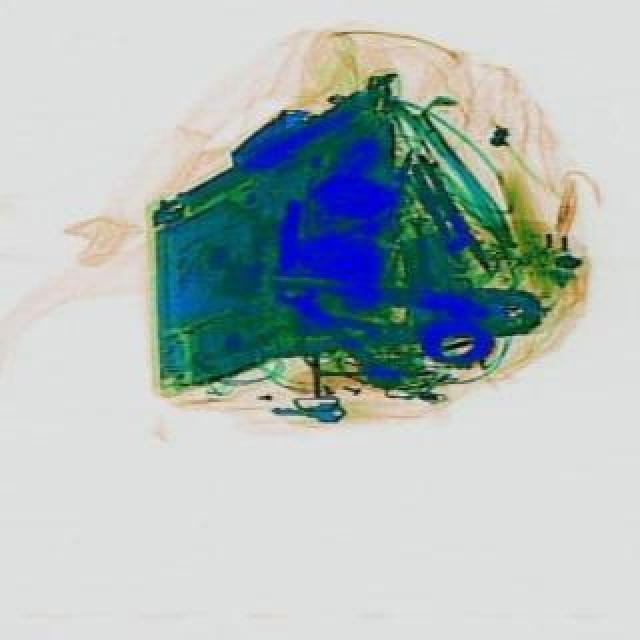scissors: (270, 270, 404, 402)
wrench: (258, 274, 536, 358)
